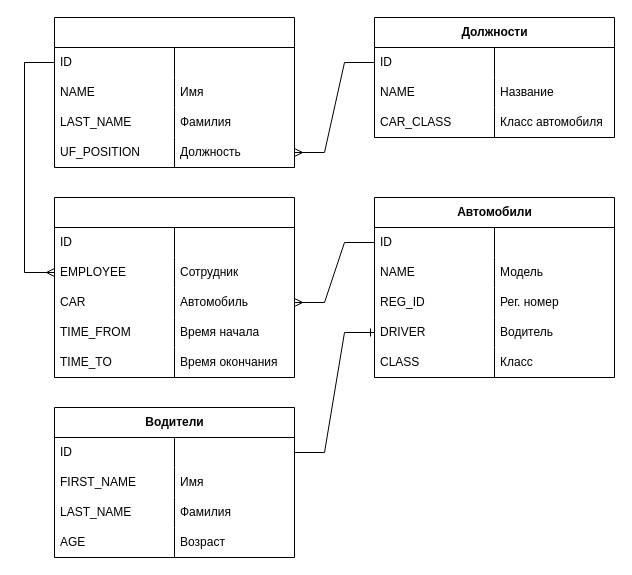
The diagram is 632 pixels wide and 575 high, and some of its shapes have lost their labels. Here are the shapes that lost their labels. From the top down, the box of each, then its label:
(54, 16, 294, 168): Пользователи
(54, 196, 294, 378): Поездки
